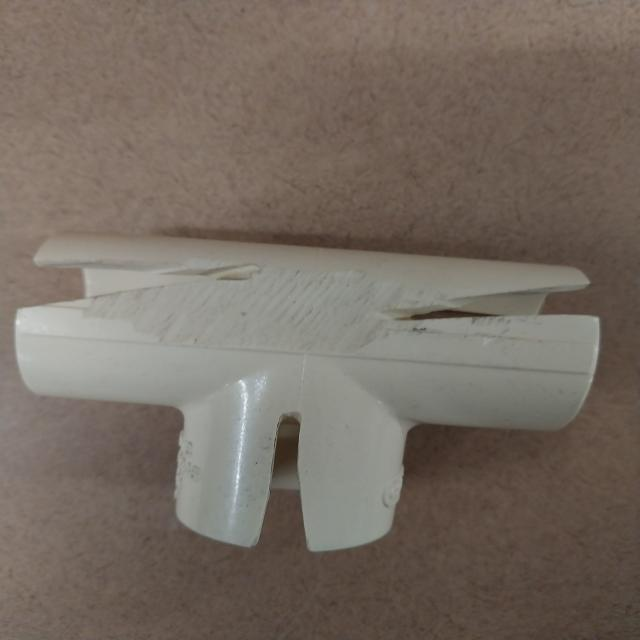Defective: (14, 263, 263, 318), (395, 288, 601, 335), (261, 417, 307, 553), (141, 265, 261, 291), (247, 301, 330, 332)
T Joint: (12, 233, 603, 555)
